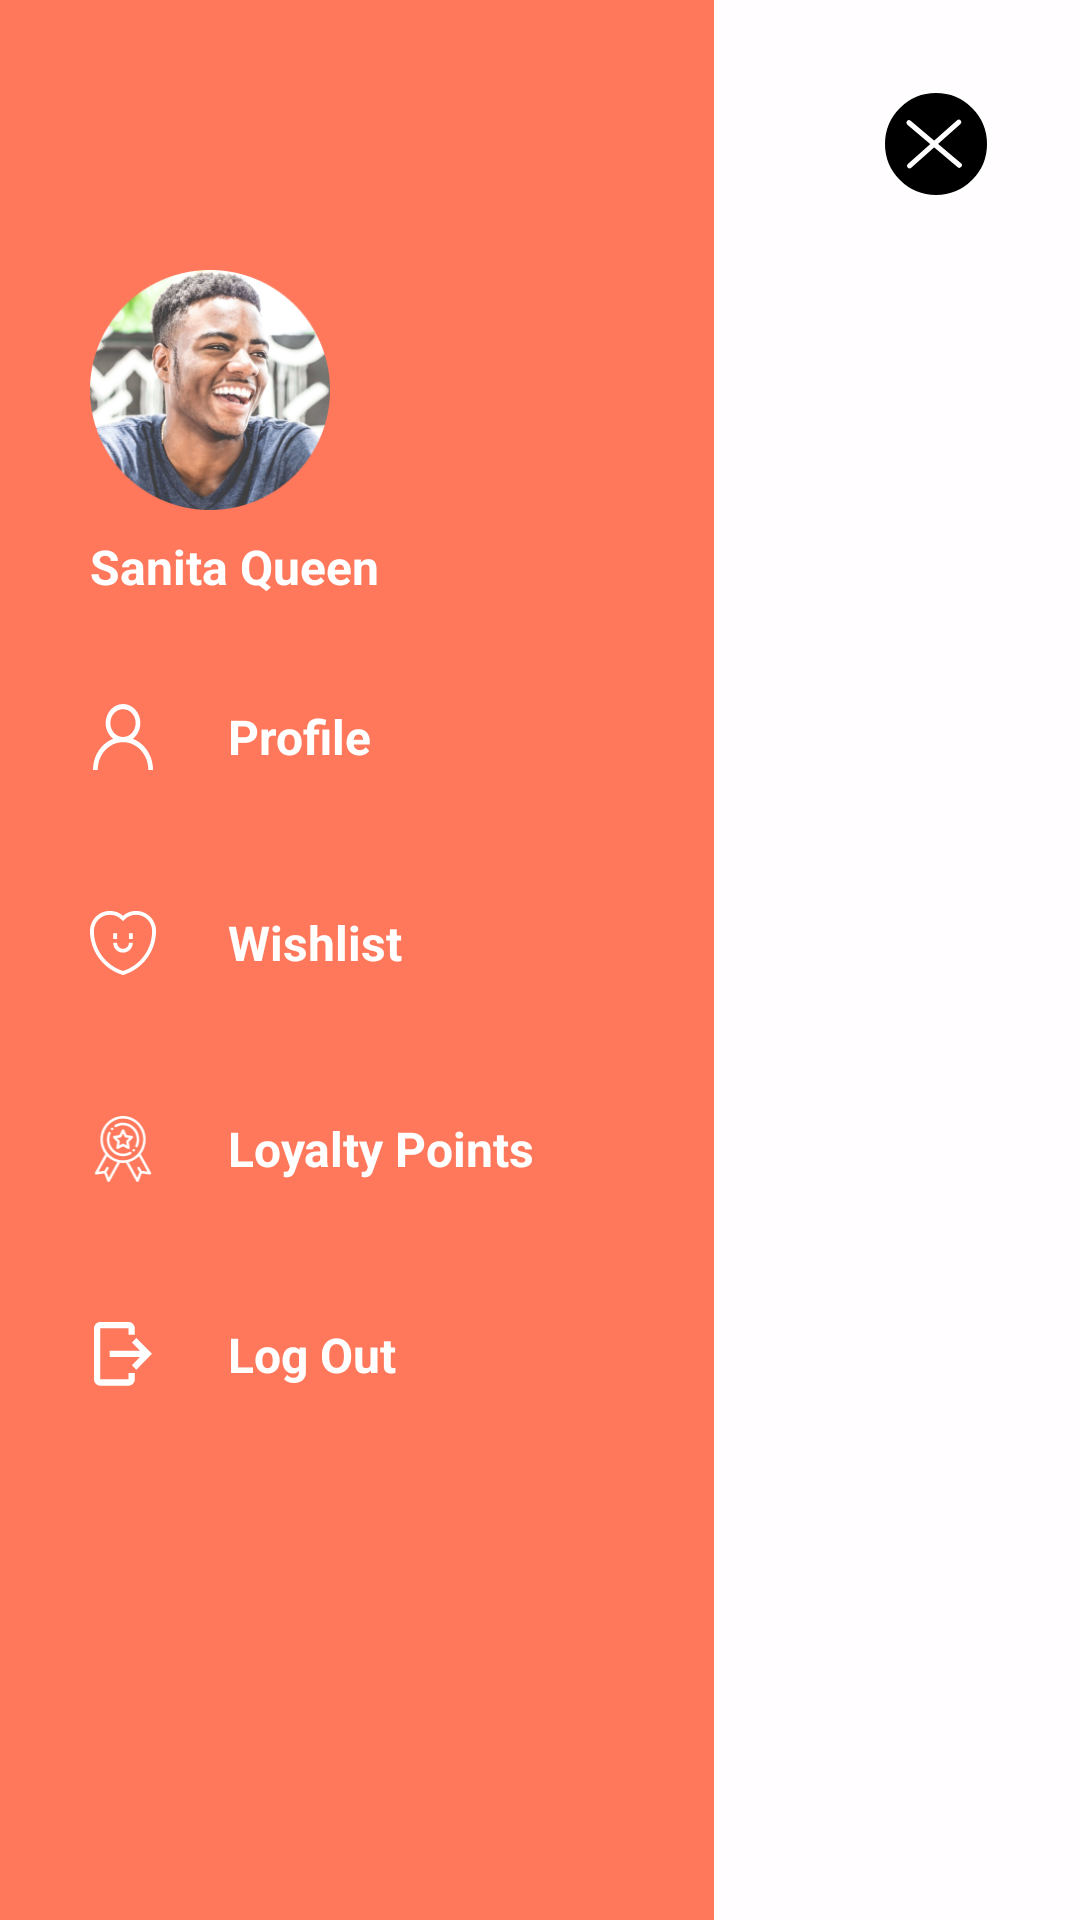

Icons on this 1080px×1920px Android screen, each with its box as (x1, y1, x2, y2):
close: (885, 93, 987, 195)
